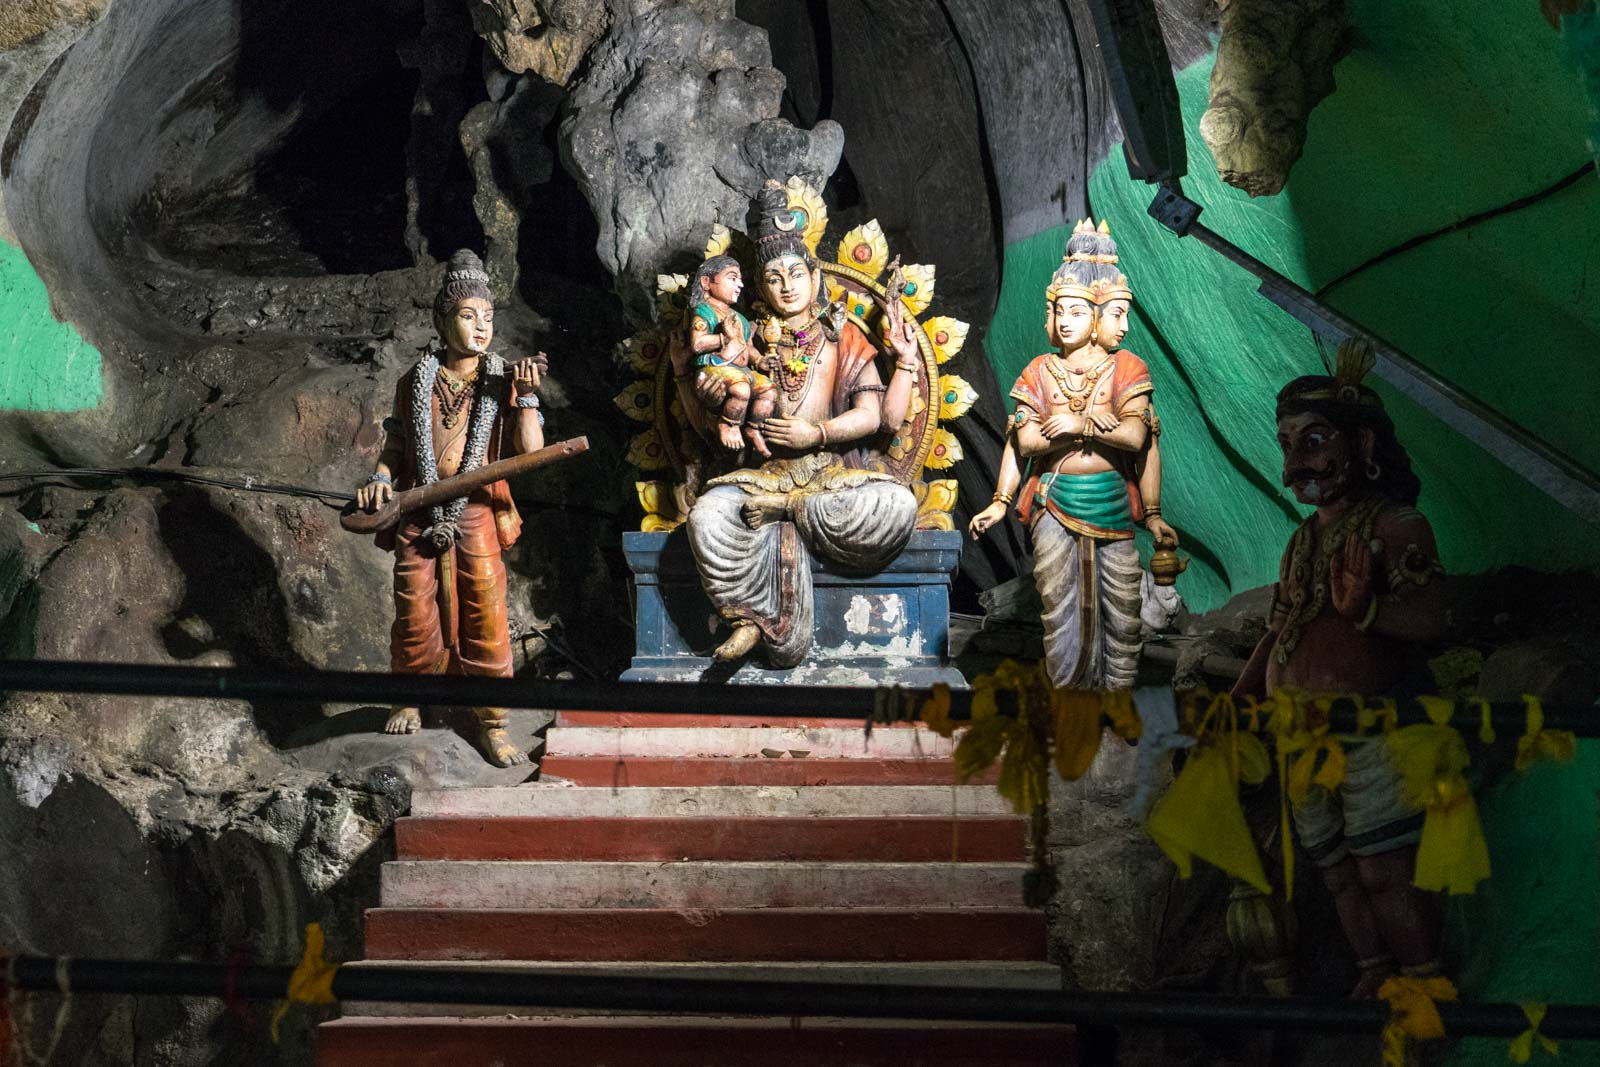Hindu Temple: (337, 157, 1156, 667)
